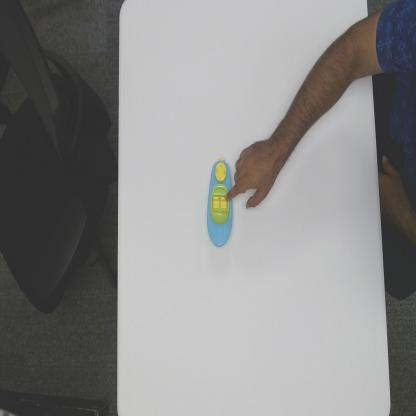Arm: (280, 16, 369, 160)
Boat: (205, 156, 234, 246)
Hand: (225, 136, 281, 207)
